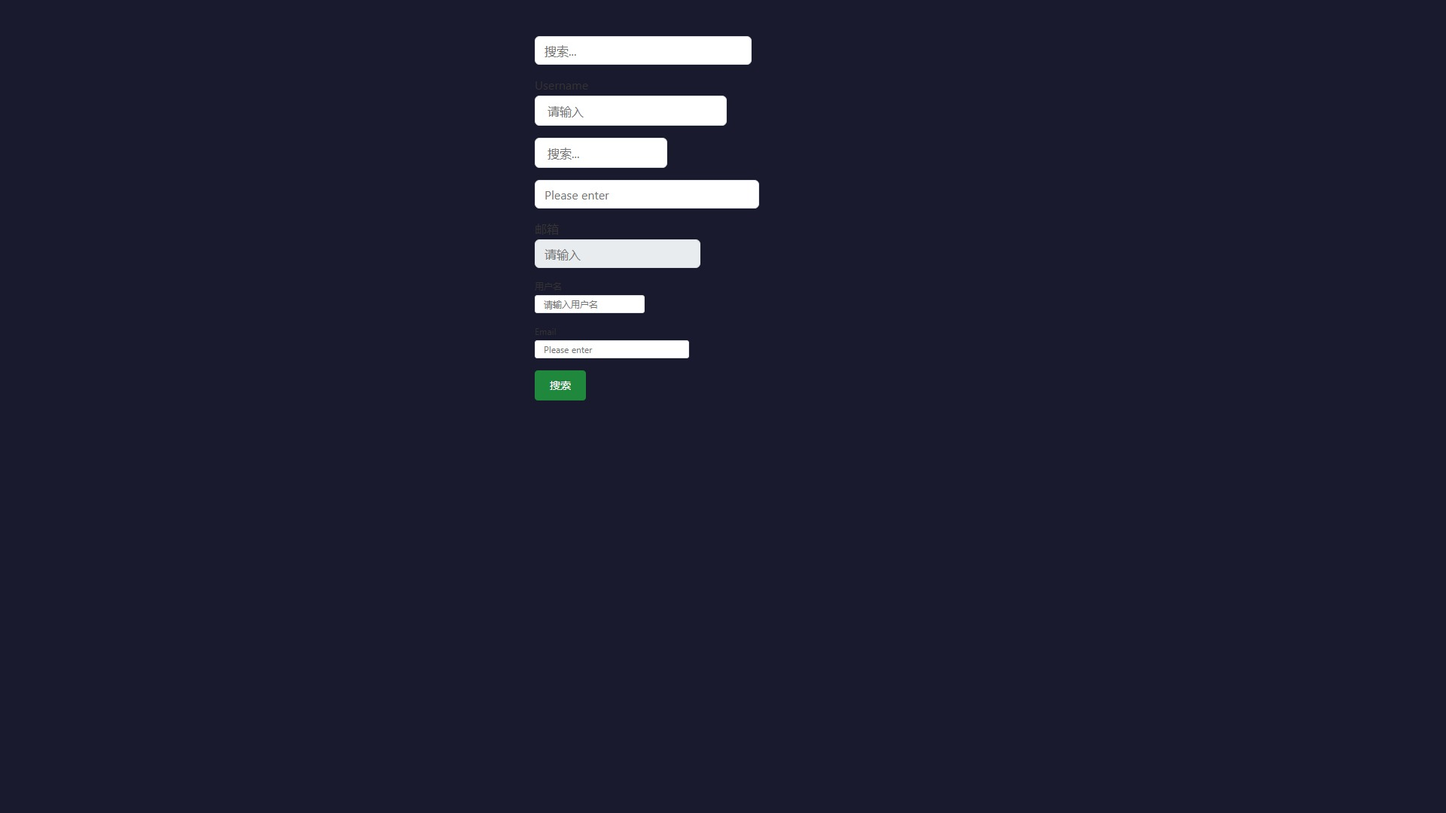button: (535, 370, 586, 400)
input: (535, 180, 759, 209), (535, 36, 752, 65), (535, 96, 727, 126), (535, 239, 700, 268), (535, 138, 667, 168), (535, 340, 689, 358), (535, 295, 645, 313)
